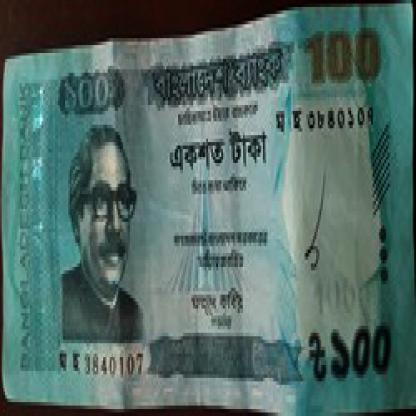one hundred taka: (303, 21, 386, 94), (328, 322, 401, 382), (57, 69, 123, 111)
